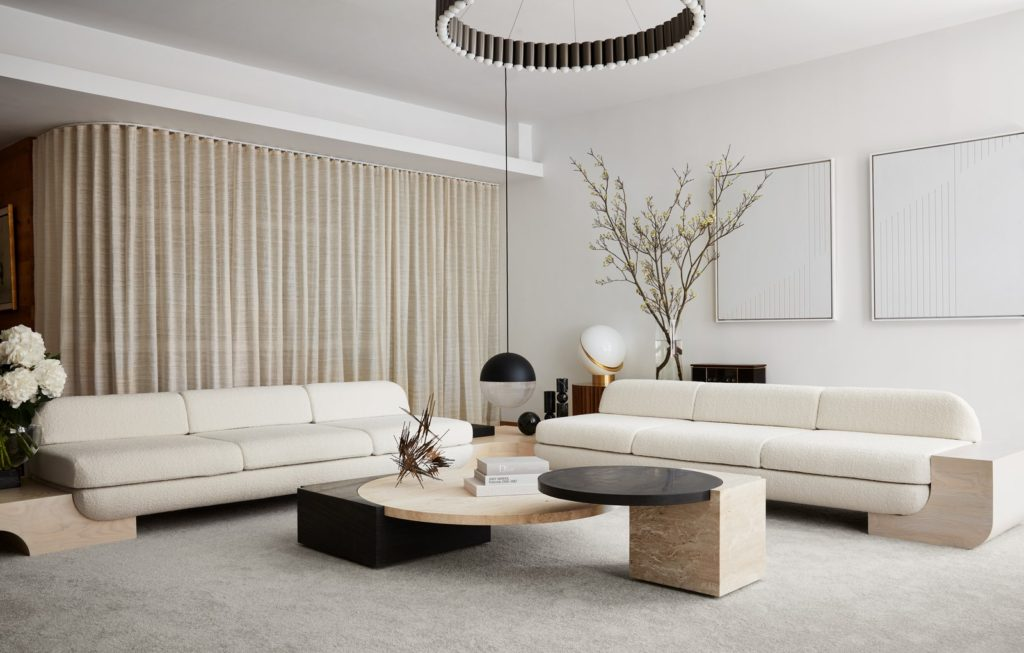flower vase: (571, 142, 772, 378), (0, 321, 66, 487)
sofa: (531, 380, 1024, 550), (27, 381, 483, 524)
table: (293, 459, 768, 603)
wall art: (863, 128, 1024, 325), (703, 153, 841, 328)
